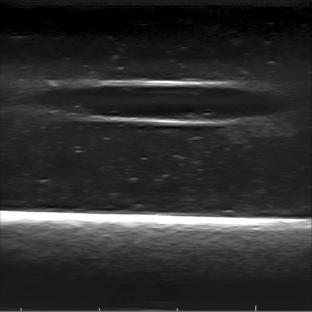vessel: (37, 79, 278, 126)
